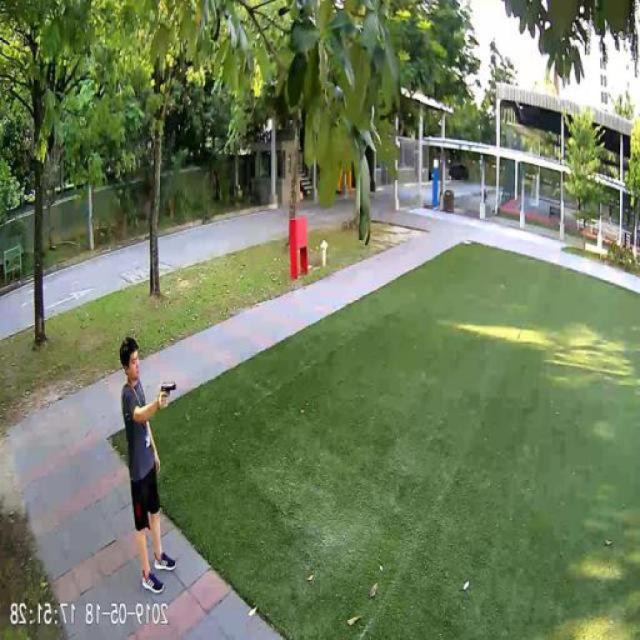pistol: (162, 376, 179, 396)
